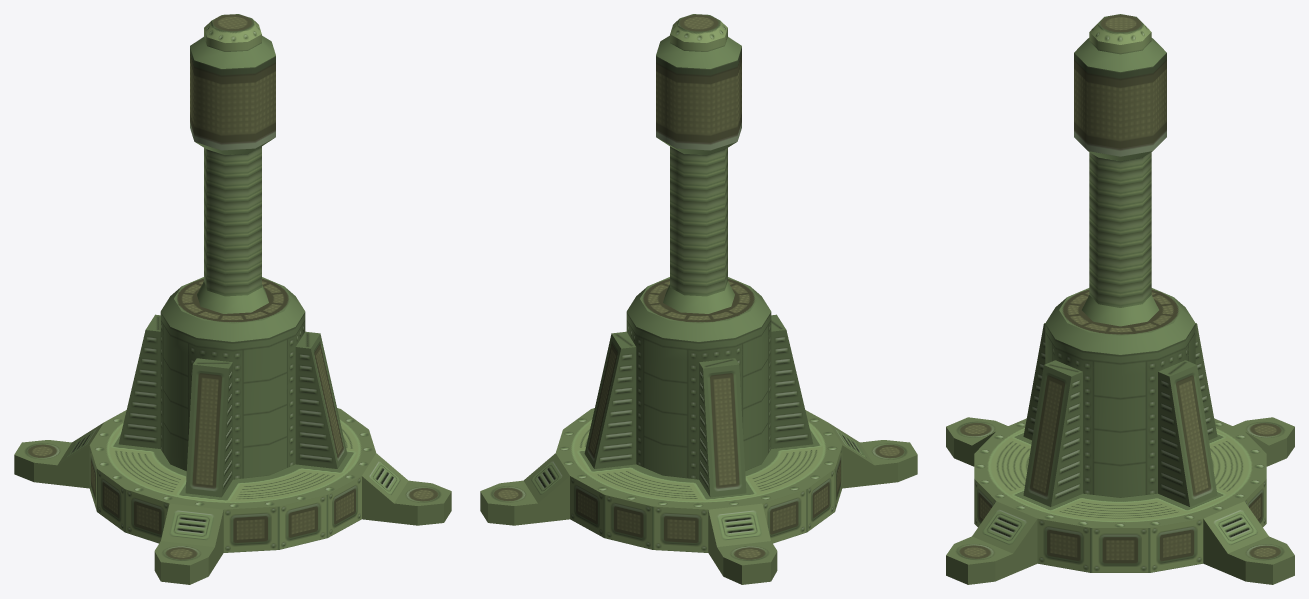
Rendered from SlowTowerModel.fbx.
The picture shows the model from 3 angles, left to right: view 1: azimuth 30°, elevation 25°; view 2: azimuth 150°, elevation 25°; view 3: azimuth 270°, elevation 25°; orthographic projection. The views are drawn at different scales.
Visible parts, largest first — view 1: SlowTowerMesh; view 2: SlowTowerMesh; view 3: SlowTowerMesh.
Part boxes in pixels (box(x1,y1,x2,y2)): SlowTowerMesh: box(14, 14, 451, 584); SlowTowerMesh: box(480, 14, 917, 584); SlowTowerMesh: box(946, 14, 1294, 584).
Bounding box in the file's own units: 3.37 × 5.19 × 3.37.
